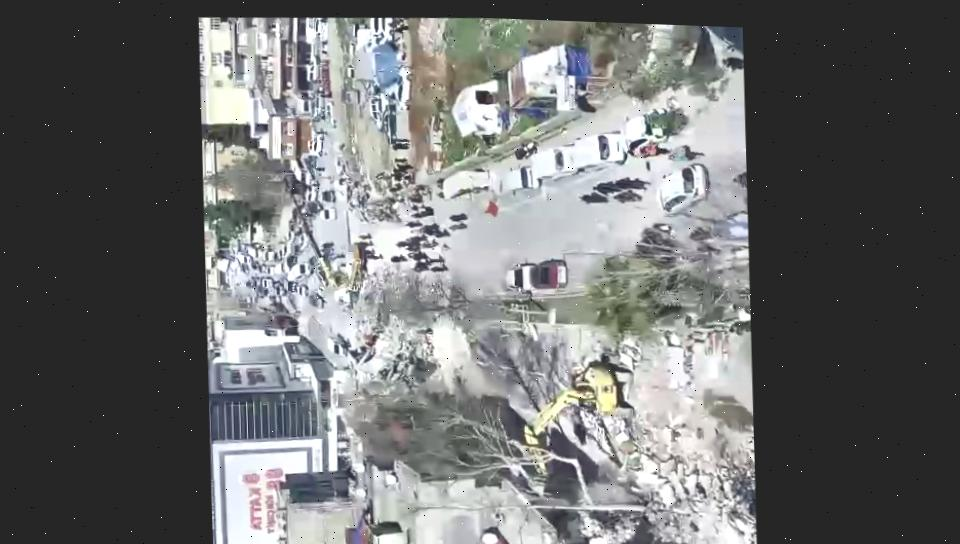kapali: (548, 325, 757, 544), (325, 289, 451, 417)
